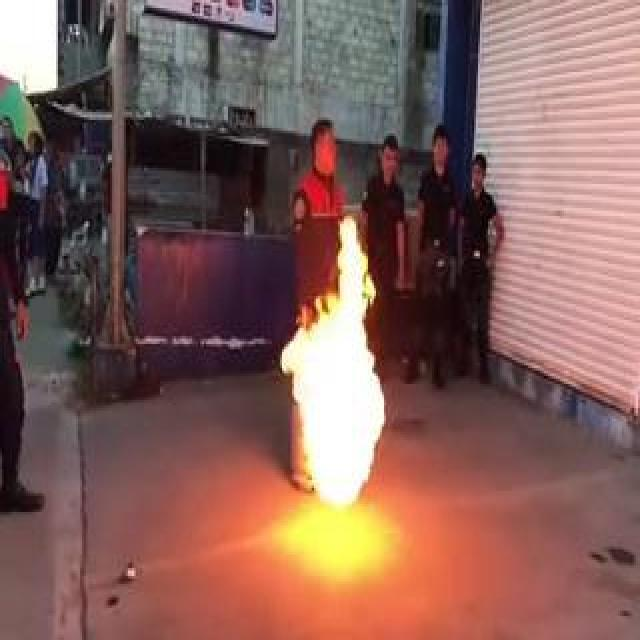Fire: (278, 199, 396, 521)
